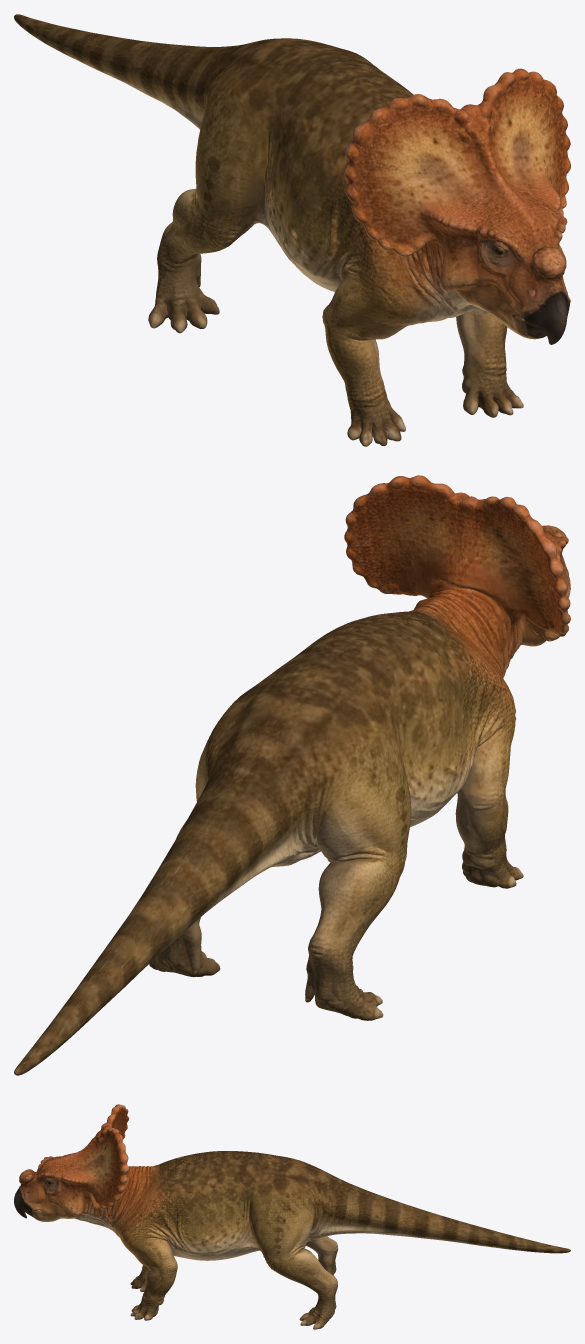
3 views of the same model, one above another, from view 1: azimuth 30°, elevation 25°; view 2: azimuth 150°, elevation 25°; view 3: azimuth 270°, elevation 25° (orthographic). The views are drawn at different scales.
Visible parts, largest first — view 1: Authored orientation; view 2: Authored orientation; view 3: Authored orientation.
Part boxes in pixels (x1,y1,x2,y2): Authored orientation: (14, 14, 570, 446); Authored orientation: (14, 475, 570, 1075); Authored orientation: (14, 1104, 570, 1329).
Bounding box in the file's own units: 0.3664 × 0.5442 × 1.5.
1 material, 1 textured.
